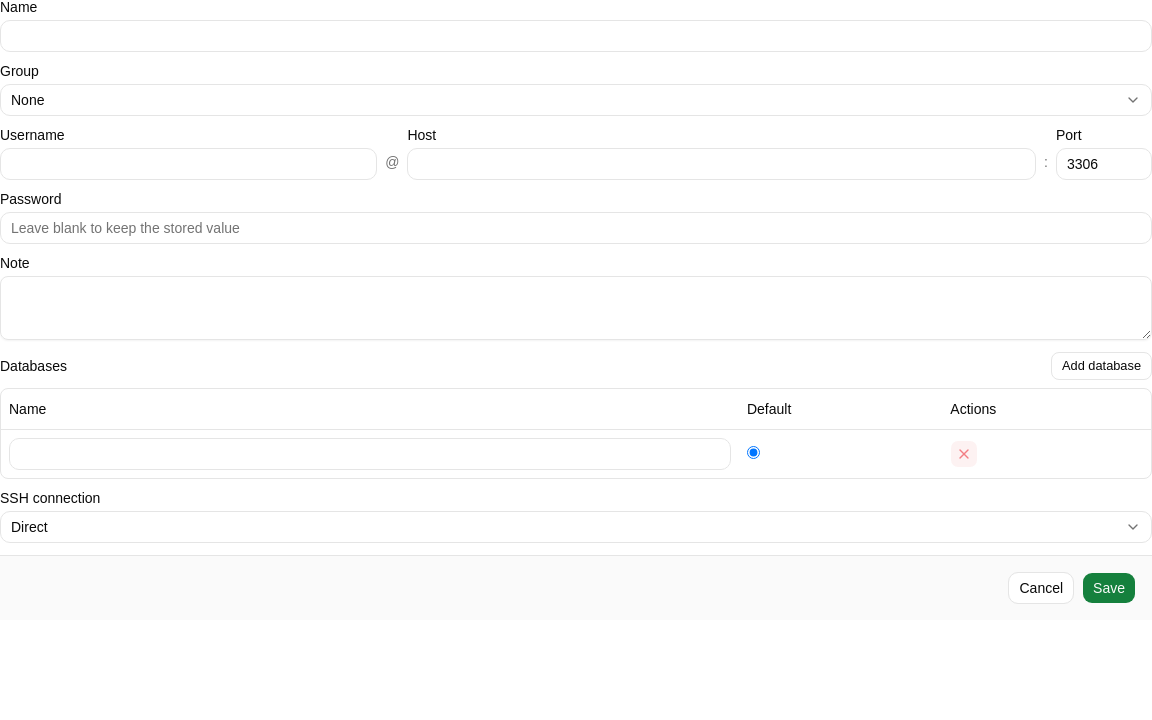
it: DBForm › filters SSH profiles by search text
Click the dropdown named "SSH connection": click(29, 526) [0,510,1151,542]
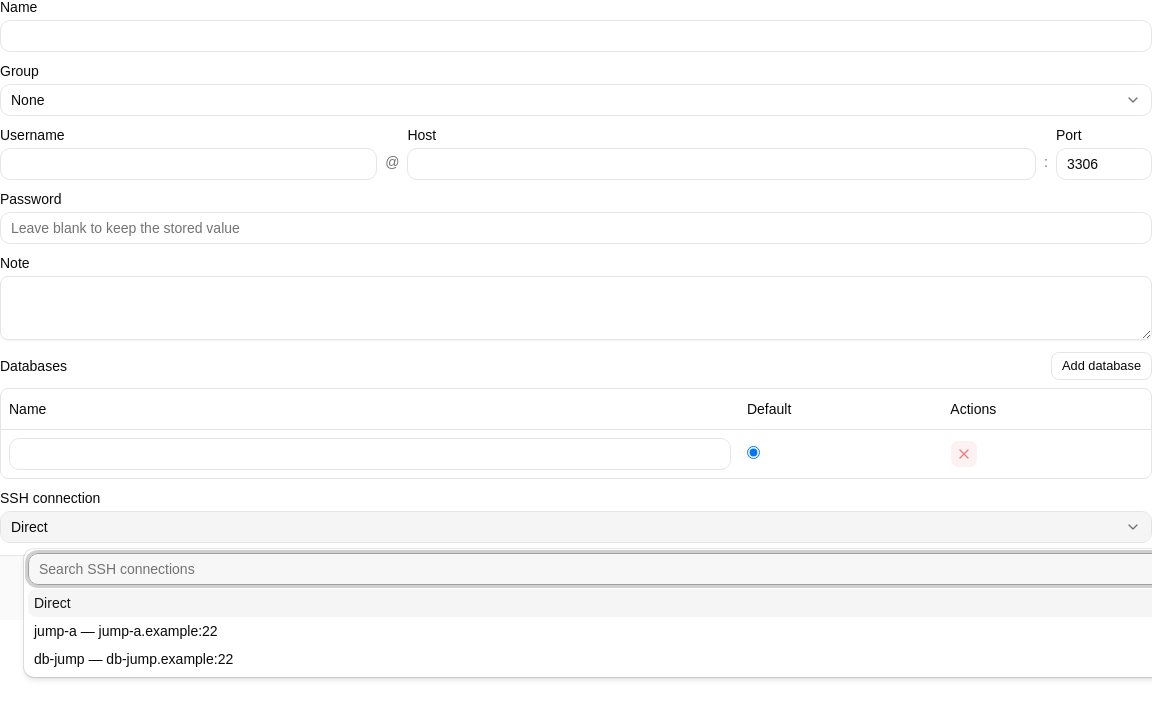
In the dropdown with placeholder "Search SSH connections": (590, 569) [29,553,1151,585], type "db-jump"
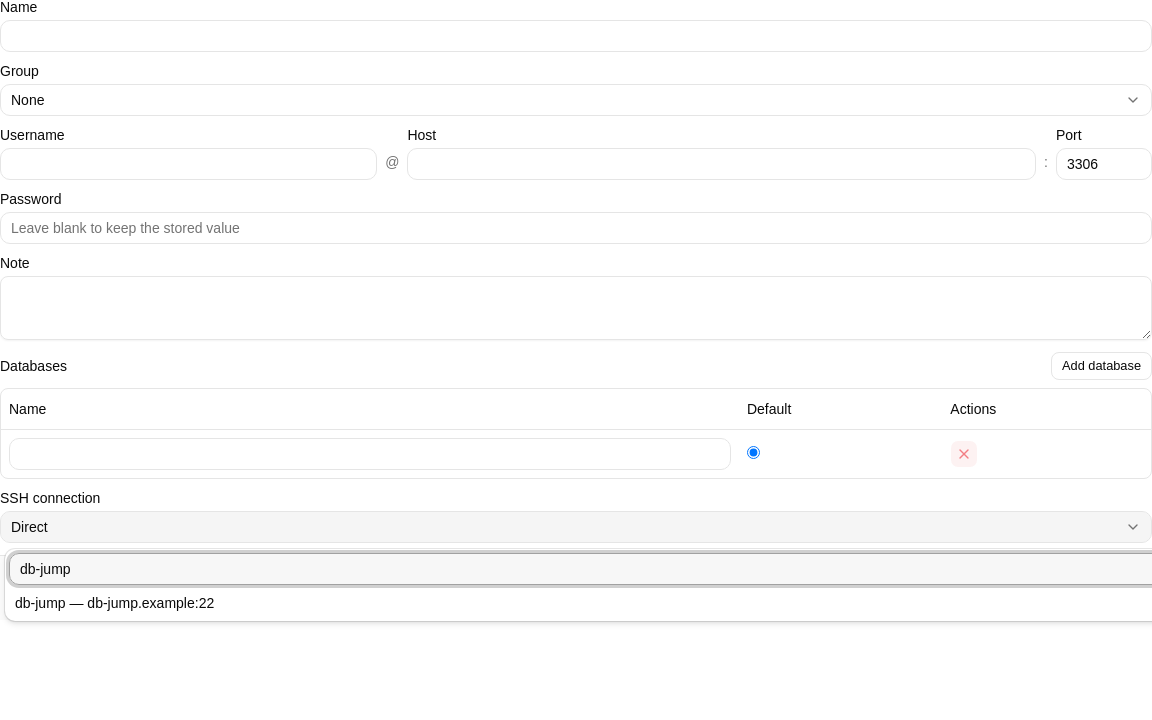
Result: the option "db-jump — db-jump.example:22" is shown at [15,595,214,611]
Result: the option "jump-a — jump-a.example:22" is gone
